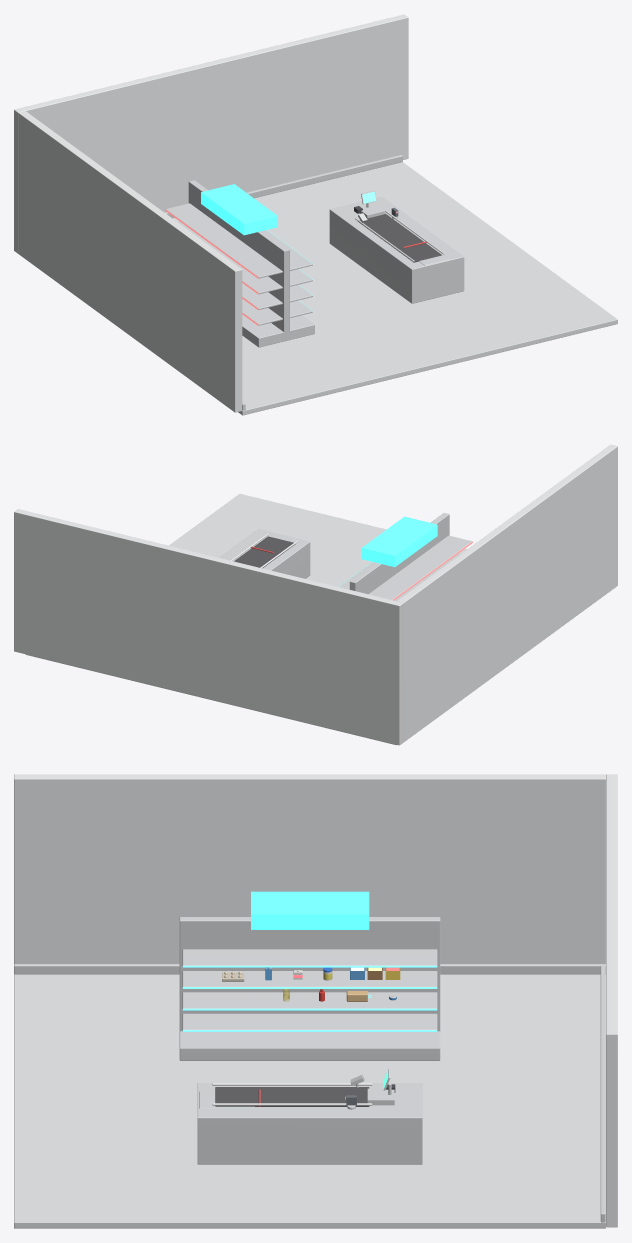
The model's file is supermarket.glb.
3 views of the same model, one above another, from view 1: azimuth 30°, elevation 25°; view 2: azimuth 150°, elevation 25°; view 3: azimuth 270°, elevation 25° (orthographic). The views are drawn at different scales.
Parts seen in each view (by area): view 1: Supermarket_Diorama, Gondola_Aisle, Checkout_Counter; view 2: Supermarket_Diorama, Gondola_Aisle, Checkout_Counter; view 3: Supermarket_Diorama, Gondola_Aisle, Checkout_Counter, Cash_Register.
Part boxes in pixels (<box>): Supermarket_Diorama: <box>14,14,617,415</box>; Gondola_Aisle: <box>165,180,314,347</box>; Checkout_Counter: <box>329,196,464,303</box>; Supermarket_Diorama: <box>14,444,617,745</box>; Gondola_Aisle: <box>338,513,472,600</box>; Checkout_Counter: <box>219,529,310,578</box>; Supermarket_Diorama: <box>14,774,617,1228</box>; Gondola_Aisle: <box>179,891,440,1060</box>; Checkout_Counter: <box>197,1083,422,1164</box>; Cash_Register: <box>367,1069,395,1105</box>.
Bounding box in the file's own units: 10.4 × 3.72 × 10.2.
